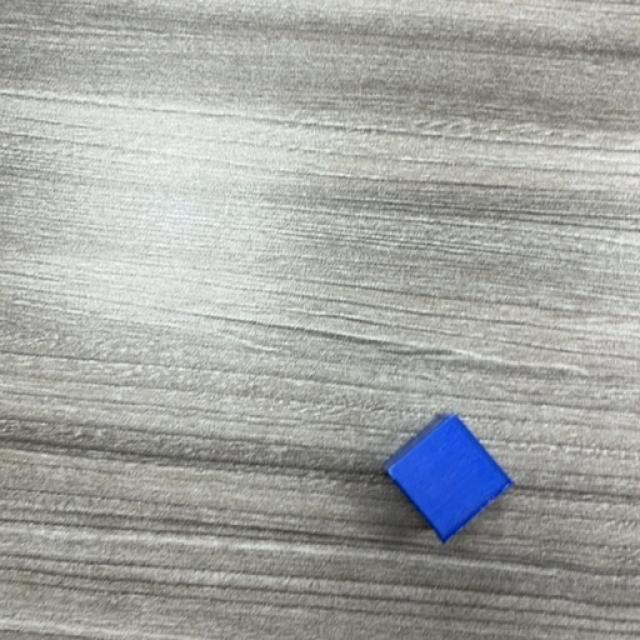Azul: (384, 415, 515, 545)
